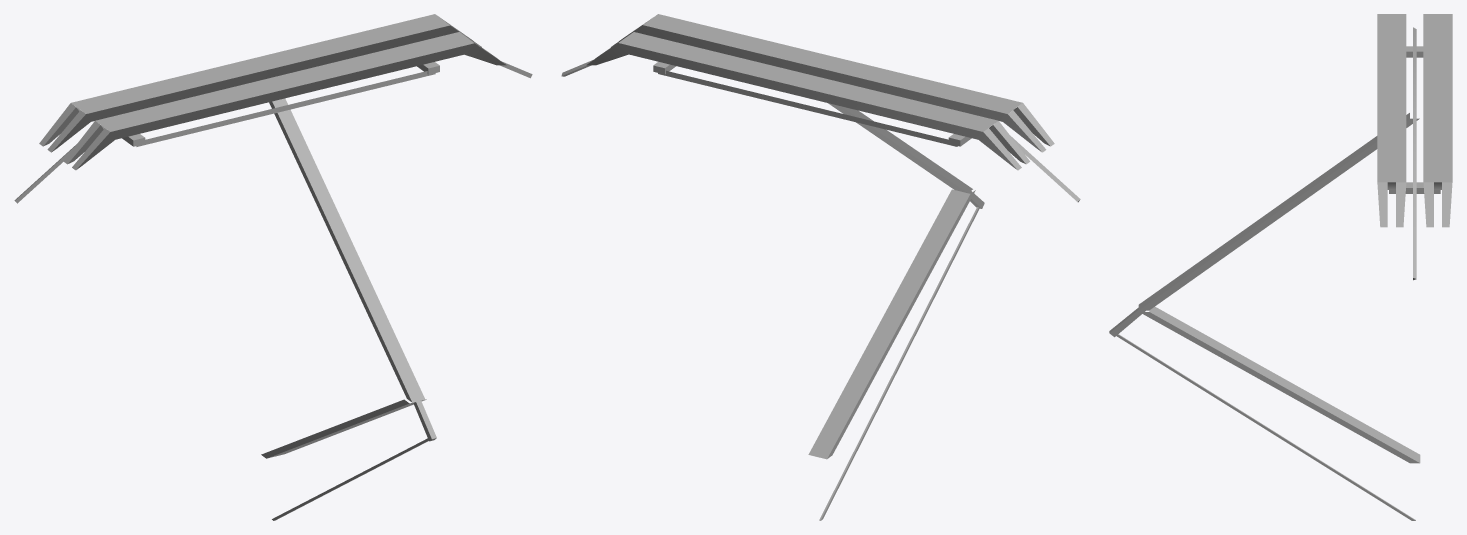
Rendered from DEKI_PANTA.glb.
3 renders of one model, left to right at view 1: azimuth 30°, elevation 25°; view 2: azimuth 150°, elevation 25°; view 3: azimuth 270°, elevation 25°, orthographic. The views are drawn at different scales.
Visible parts, largest first — view 1: PANTA; view 2: PANTA; view 3: PANTA.
Boxes of the visible parts, x1,y1,x2,y2 form: PANTA: (14,14,532,520); PANTA: (561,14,1080,520); PANTA: (1109,14,1452,520).
Size of the model in its own units: 4.48 by 3.7 by 2.72.
Materials: 1 (1 with a texture image).
